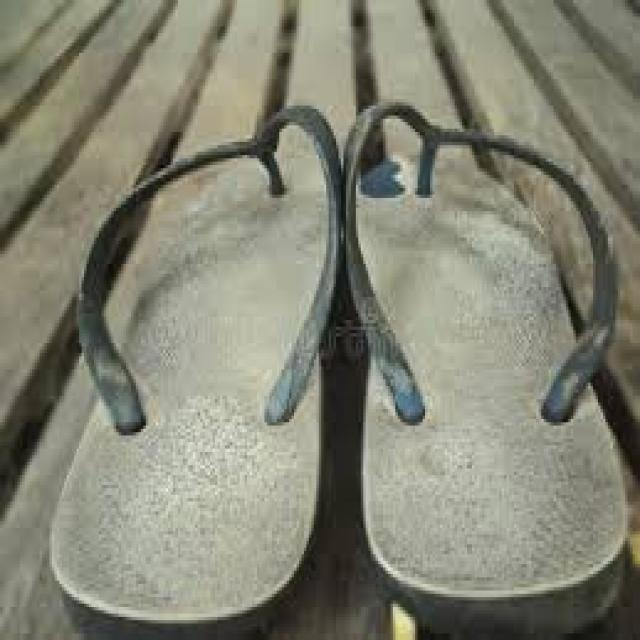other: (52, 106, 343, 630), (346, 102, 630, 638)
